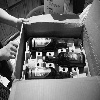beer: (26, 67, 68, 78)
